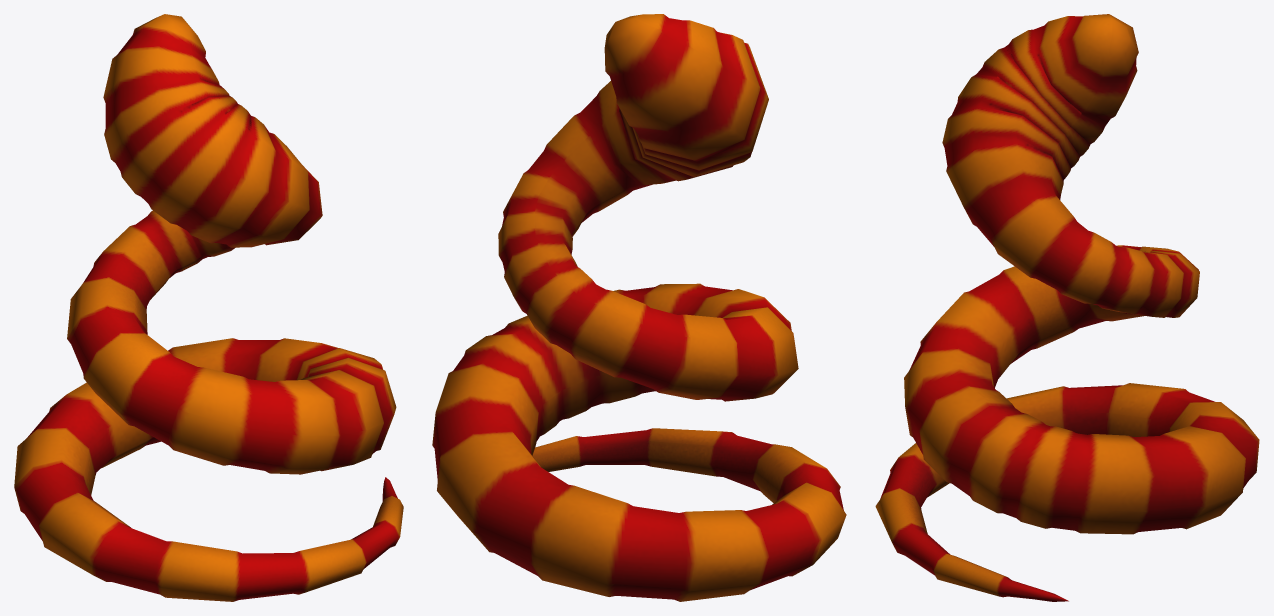
File: Worm.FBX
The picture shows the model from 3 angles, left to right: view 1: azimuth 30°, elevation 25°; view 2: azimuth 150°, elevation 25°; view 3: azimuth 270°, elevation 25°; orthographic projection. The views are drawn at different scales.
Parts seen in each view (by area): view 1: Worm; view 2: Worm; view 3: Worm.
Boxes of the visible parts, box(x1,y1,x2,y2) form: Worm: box(14, 14, 403, 601); Worm: box(432, 14, 846, 601); Worm: box(875, 14, 1259, 601).
Size of the model in its own units: 20.81 by 28.97 by 20.26.
